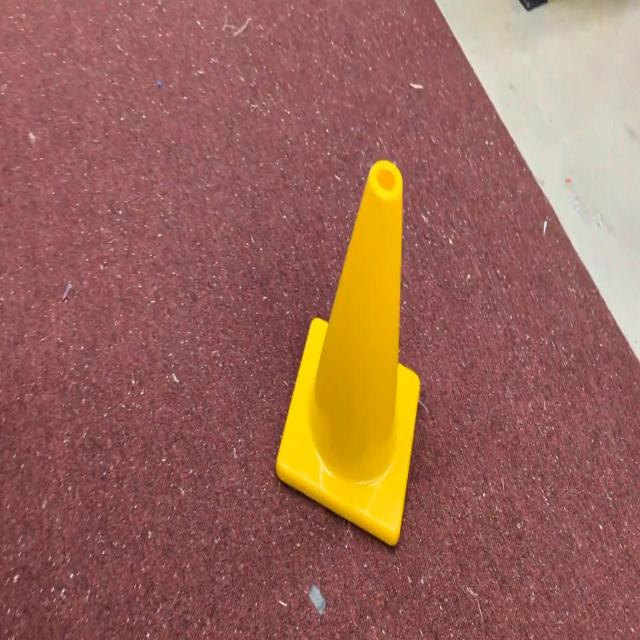frc_cone: (278, 160, 423, 548)
